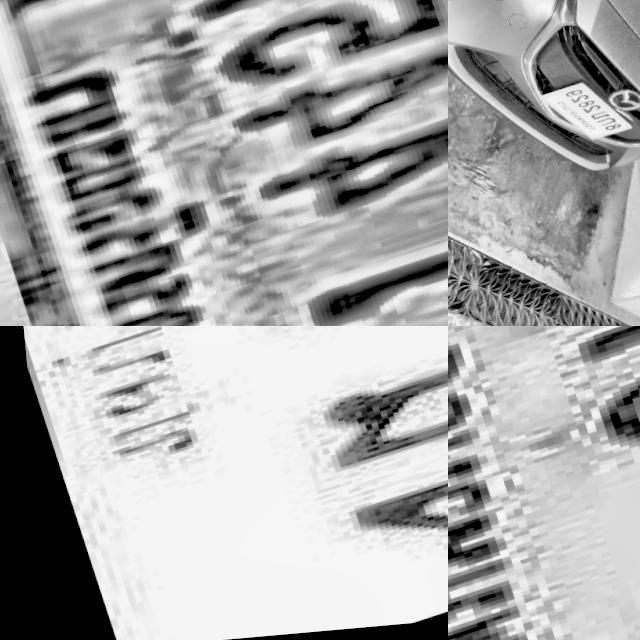license-plate: (0, 0, 448, 326), (0, 326, 448, 640), (448, 326, 640, 640), (527, 73, 629, 160)
